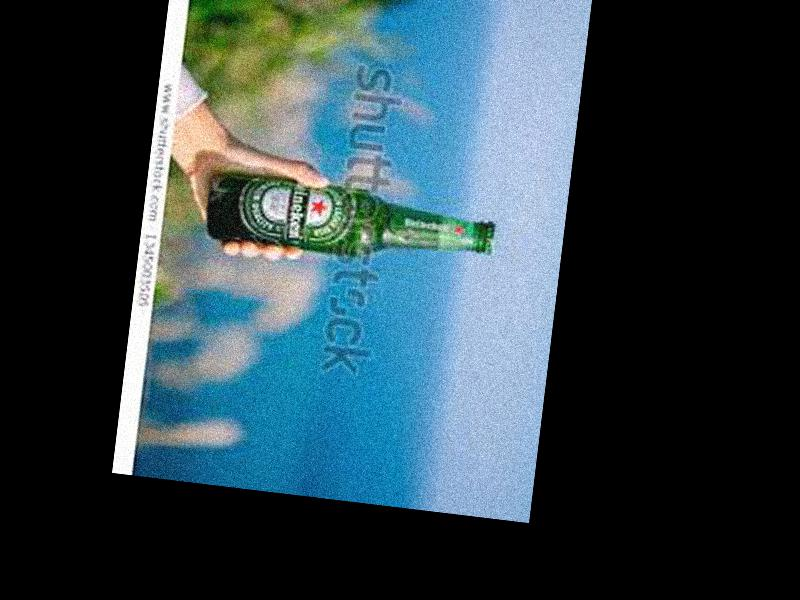Beer: (202, 169, 499, 272)
